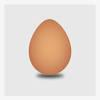egg: (28, 19, 72, 75)
